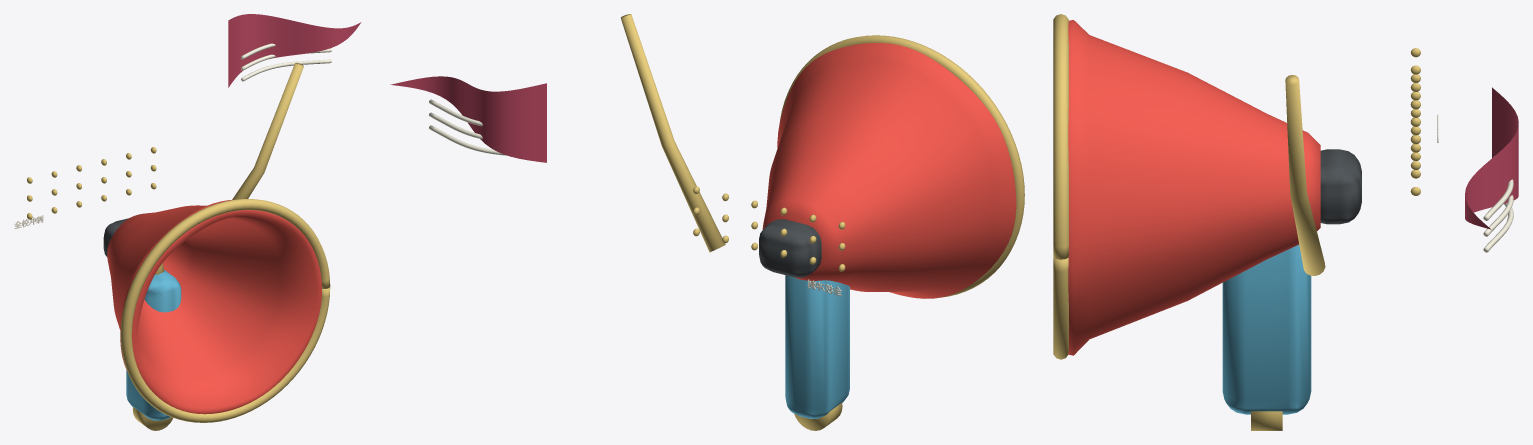
Rendered from E05_Giant_Cheer_Megaphone.glb.
3 views of the same model, side by side, from view 1: azimuth 30°, elevation 25°; view 2: azimuth 150°, elevation 25°; view 3: azimuth 270°, elevation 25° (orthographic). The views are drawn at different scales.
Parts seen in each view (by area): view 1: E05 hollow thick-wall megaphone flared trumpet shell, E05_HORN_ACTOR | Polished industrial horn rolled brass, E05 genuine waving school battle pennant fabric, E05 actual carry grip hinged to horn, E05 football victory flag solid metal pole, E05_BANNER_ACTOR | White stitched sports jersey chevron; view 2: E05 hollow thick-wall megaphone flared trumpet shell, E05 actual carry grip hinged to horn, E05 genuine waving school battle pennant fabric, E05_HORN_ACTOR | Polished industrial horn rolled brass, E05 football victory flag solid metal pole, E05 genuine speaker mouthpiece behind bell, E05_BANNER_ACTOR | White stitched sports jersey chevron; view 3: E05 hollow thick-wall megaphone flared trumpet shell, E05 actual carry grip hinged to horn, E05_HORN_ACTOR | Polished industrial horn rolled brass, E05 genuine waving school battle pennant fabric, E05 football victory flag solid metal pole, E05 genuine speaker mouthpiece behind bell, E05_BANNER_ACTOR | White stitched sports jersey chevron.
Part boxes in pixels (bbox=[...]): E05 hollow thick-wall megaphone flared trumpet shell: bbox=[107, 199, 321, 414]; E05_HORN_ACTOR | Polished industrial horn rolled brass: bbox=[27, 147, 330, 430]; E05 genuine waving school battle pennant fabric: bbox=[228, 14, 361, 87]; E05 actual carry grip hinged to horn: bbox=[126, 270, 181, 420]; E05 football victory flag solid metal pole: bbox=[232, 62, 303, 199]; E05_BANNER_ACTOR | White stitched sports jersey chevron: bbox=[241, 43, 331, 81]; E05 hollow thick-wall megaphone flared trumpet shell: bbox=[762, 43, 1016, 298]; E05 actual carry grip hinged to horn: bbox=[785, 275, 849, 418]; E05 genuine waving school battle pennant fabric: bbox=[390, 76, 546, 162]; E05_HORN_ACTOR | Polished industrial horn rolled brass: bbox=[693, 35, 1024, 430]; E05 football victory flag solid metal pole: bbox=[621, 14, 725, 252]; E05 genuine speaker mouthpiece behind bell: bbox=[759, 219, 821, 277]; E05_BANNER_ACTOR | White stitched sports jersey chevron: bbox=[429, 99, 506, 155]; E05 hollow thick-wall megaphone flared trumpet shell: bbox=[1068, 20, 1320, 355]; E05 actual carry grip hinged to horn: bbox=[1222, 245, 1311, 414]; E05_HORN_ACTOR | Polished industrial horn rolled brass: bbox=[1053, 14, 1420, 430]; E05 genuine waving school battle pennant fabric: bbox=[1465, 87, 1518, 229]; E05 football victory flag solid metal pole: bbox=[1285, 75, 1325, 275]; E05 genuine speaker mouthpiece behind bell: bbox=[1320, 149, 1361, 224]; E05_BANNER_ACTOR | White stitched sports jersey chevron: bbox=[1483, 156, 1513, 252].
Bounding box in the file's own units: 2.05 × 1.6 × 1.47.
